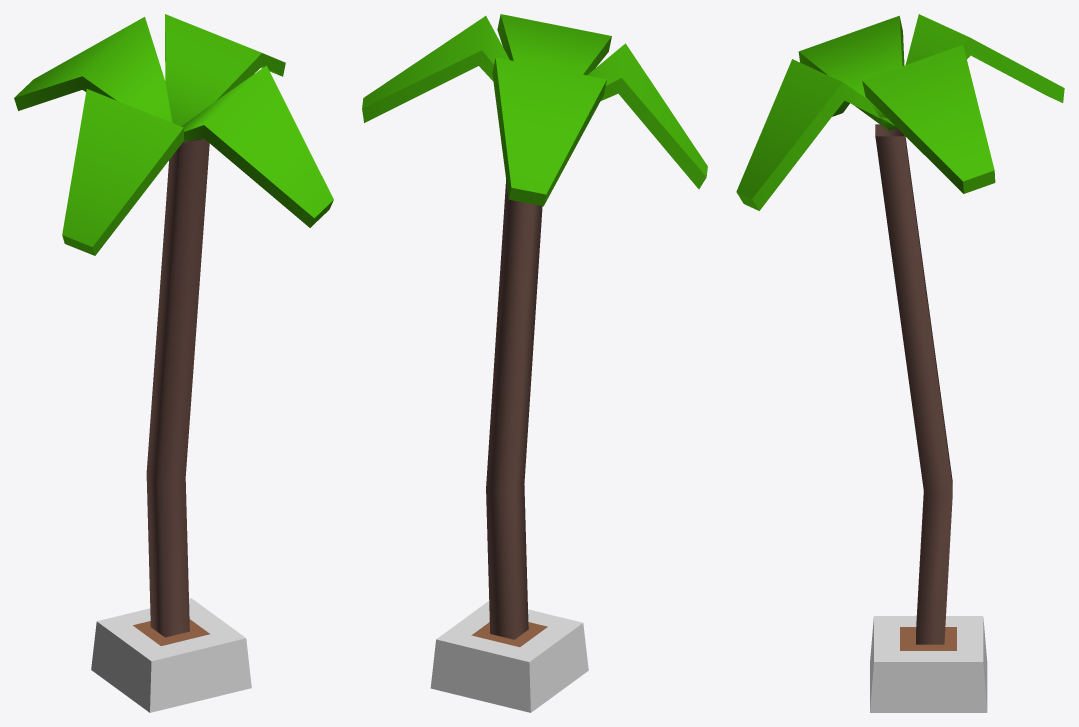
File: palm_tree_01.fbx
The picture shows the model from 3 angles, left to right: view 1: azimuth 30°, elevation 25°; view 2: azimuth 150°, elevation 25°; view 3: azimuth 270°, elevation 25°; orthographic projection.
Parts seen in each view (by area): view 1: pCube174, pCube175, pasted__pCube156, pasted__pCube153, pasted__pCube155, pasted__pCube154; view 2: pCube174, pCube175, pasted__pCube155, pasted__pCube154, pasted__pCube156, pasted__pCube153; view 3: pCube174, pasted__pCube154, pCube175, pasted__pCube153, pasted__pCube156, pasted__pCube155.
Part boxes in pixels (box(x1,y1,x2,y2)): pCube174: box(146, 138, 209, 637); pCube175: box(91, 598, 251, 712); pasted__pCube156: box(62, 89, 183, 255); pasted__pCube153: box(182, 65, 333, 227); pasted__pCube155: box(14, 17, 172, 122); pasted__pCube154: box(165, 14, 285, 126); pCube174: box(486, 179, 542, 639); pCube175: box(430, 601, 588, 712); pasted__pCube155: box(492, 57, 606, 206); pasted__pCube154: box(362, 16, 509, 122); pasted__pCube156: box(587, 43, 707, 189); pasted__pCube153: box(497, 14, 611, 75); pCube174: box(875, 124, 952, 644); pasted__pCube154: box(862, 45, 995, 193); pCube175: box(870, 616, 987, 712); pasted__pCube153: box(736, 59, 894, 210); pasted__pCube156: box(798, 15, 904, 130); pasted__pCube155: box(905, 14, 1064, 102).
Bounding box in the file's own units: 2.81 × 6.09 × 2.79.
